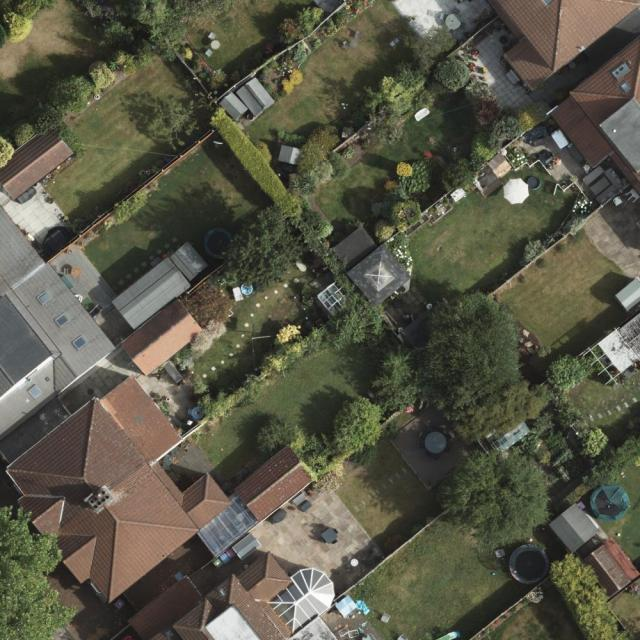roof: (4, 373, 315, 602), (0, 201, 120, 441), (125, 551, 340, 640), (547, 33, 640, 196), (484, 0, 640, 90), (112, 257, 205, 379), (0, 125, 75, 201), (347, 241, 413, 307)
skylight: (267, 569, 335, 634), (198, 495, 260, 556), (367, 261, 394, 291), (610, 58, 633, 80), (36, 289, 55, 307), (53, 310, 71, 328), (70, 333, 88, 351), (25, 384, 44, 400), (619, 80, 632, 95), (542, 0, 557, 8)
